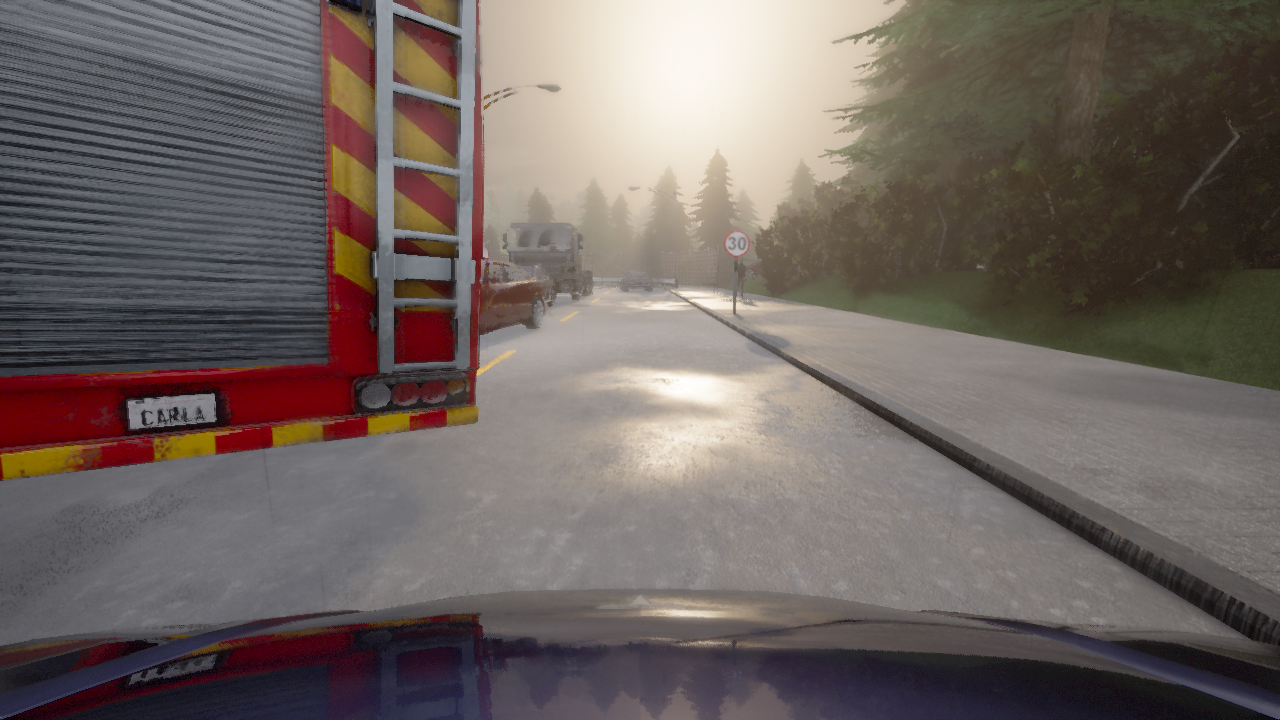cyclist: (0, 588, 1279, 719), (502, 221, 592, 300), (479, 257, 547, 333), (515, 264, 555, 306), (747, 255, 795, 280), (621, 271, 651, 290)
pedestrian: (736, 257, 746, 298), (738, 258, 747, 295)
